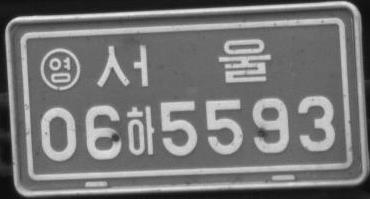0: (39, 106, 76, 162)
3: (297, 94, 336, 152)
5: (158, 98, 198, 157), (204, 97, 243, 156)
6: (84, 104, 122, 160)
9: (251, 95, 289, 155)
서울_D: (95, 37, 271, 86)
영: (38, 46, 81, 92)
하: (126, 105, 155, 156)
